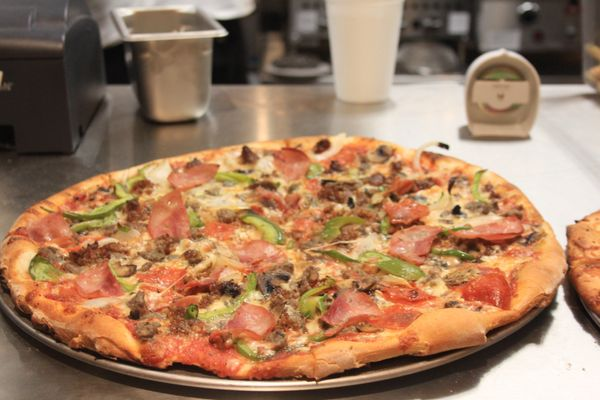pizza: (325, 0, 404, 103)
